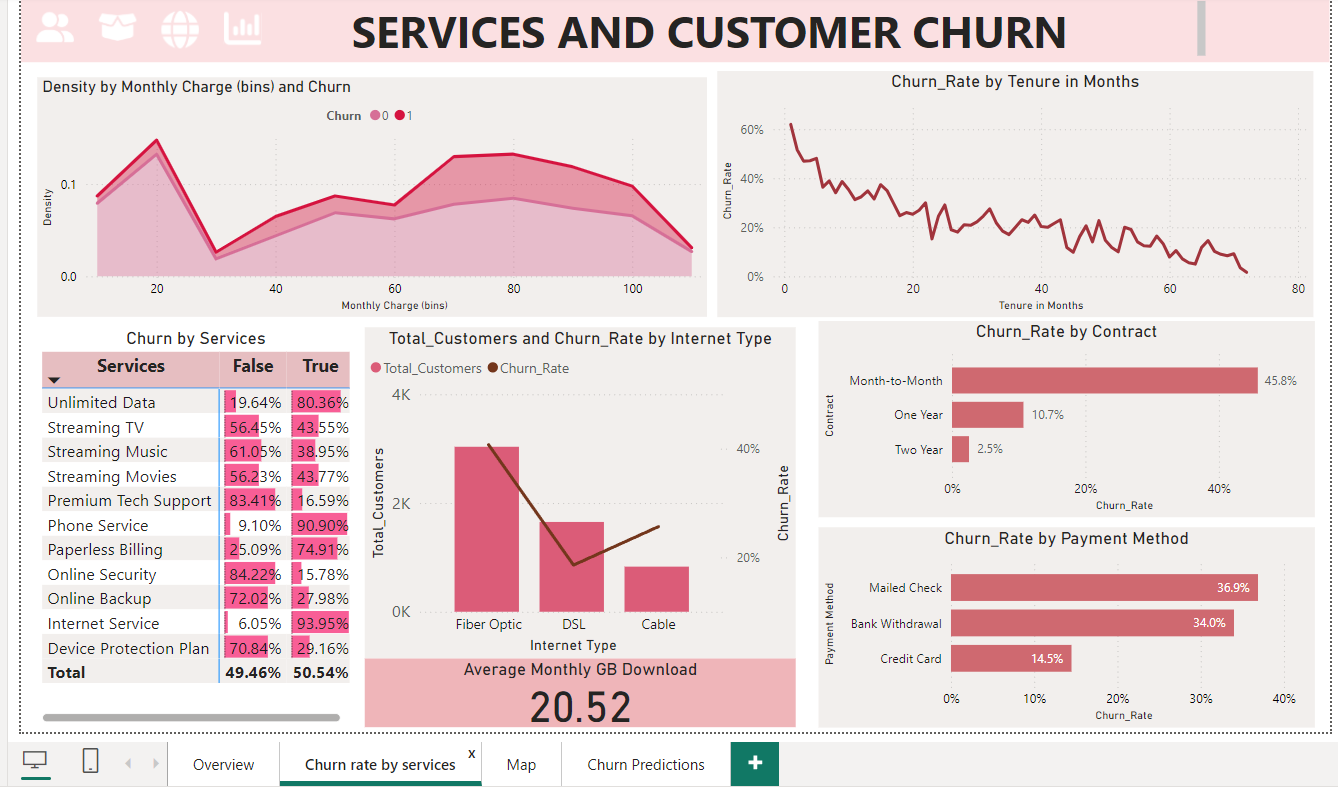

What the dashboard file says about the page in this screenshot:
{"tool":"powerbi","page":{"name":"Churn rate by services","canvas":[1280,720],"ordinal":1},"visuals":[{"type":"shape","title":"SERVICES AND CUSTOMER CHURN","box":[0,0,1280.3,64.8],"z":0},{"type":"actionButton","box":[11.5,4.3,44.7,50.5],"z":0,"group":"g1"},{"type":"actionButton","box":[72.6,4.3,44.7,50.5],"z":1000,"group":"g1"},{"type":"lineChart","fields":{"Category":["telecom_analysis.Tenure in Months"],"Y":["telecom_analysis.Churn_Rate"]},"box":[681.1,73.4,583.3,240.9],"z":1000},{"type":"actionButton","box":[194.7,5.7,44.7,50.5],"z":2000,"group":"g1"},{"type":"clusteredBarChart","fields":{"Y":["telecom_analysis.Churn_Rate"],"Category":["telecom_analysis.Contract"]},"box":[780.2,317.9,485.5,192],"z":2000},{"type":"actionButton","box":[133.7,7.2,44.7,50.5],"z":3000,"group":"g1"},{"type":"clusteredBarChart","fields":{"Category":["telecom_analysis.Payment Method"],"Y":["telecom_analysis.Churn_Rate"]},"box":[780.2,519.7,485.5,195.7],"z":3000},{"type":"lineStackedColumnComboChart","fields":{"Category":["telecom_analysis.Internet Type"],"Y":["telecom_analysis.Total_Customers"],"Y2":["telecom_analysis.Churn_Rate"]},"box":[336.3,324.1,421.9,324.1],"z":4000},{"type":"pivotTable","title":"Churn by Services","fields":{"Rows":["telecom_services.Services"],"Columns":["telecom_services.Status"],"Values":["Sum(telecom_services.Churn)"]},"box":[15.9,324.1,310.6,391.3],"z":5000},{"type":"card","title":"Average Monthly GB Download","fields":{"Values":["Avg(telecom_analysis.Avg Monthly GB Download)"]},"box":[336.3,648.1,421.9,67.3],"z":6000},{"type":"stackedAreaChart","fields":{"Series":["telecom_analysis.Churn"],"Y":["telecom_analysis.Density"],"Category":["telecom_analysis.Monthly Charge (bins)"]},"box":[15.9,79.5,655.4,234.8],"z":7000},{"type":"textbox","box":[190.8,0,973.4,64.8],"z":8000},{"type":"group","id":"g1","title":"Navigation buttons","box":[11.5,4.3,228,53.4],"z":9000}]}

Visuals, with their boxes on the page's 1280x720 design canvas (x1, y1, x2, y2). These are canvas units, not pixel positions in the 1338x787 screenshot, which may show the page scaled, cropped or inside an application window:
"SERVICES AND CUSTOMER CHURN" shape: {"x1": 0, "y1": 0, "x2": 1280, "y2": 65}
actionButton: {"x1": 12, "y1": 4, "x2": 56, "y2": 55}
actionButton: {"x1": 73, "y1": 4, "x2": 117, "y2": 55}
lineChart - telecom_analysis.Tenure in Months x telecom_analysis.Churn_Rate: {"x1": 681, "y1": 73, "x2": 1264, "y2": 314}
actionButton: {"x1": 195, "y1": 6, "x2": 239, "y2": 56}
clusteredBarChart - telecom_analysis.Churn_Rate x telecom_analysis.Contract: {"x1": 780, "y1": 318, "x2": 1266, "y2": 510}
actionButton: {"x1": 134, "y1": 7, "x2": 178, "y2": 58}
clusteredBarChart - telecom_analysis.Payment Method x telecom_analysis.Churn_Rate: {"x1": 780, "y1": 520, "x2": 1266, "y2": 715}
lineStackedColumnComboChart - telecom_analysis.Internet Type x telecom_analysis.Total_Customers: {"x1": 336, "y1": 324, "x2": 758, "y2": 648}
"Churn by Services" pivotTable: {"x1": 16, "y1": 324, "x2": 326, "y2": 715}
"Average Monthly GB Download" card: {"x1": 336, "y1": 648, "x2": 758, "y2": 715}
stackedAreaChart - telecom_analysis.Churn x telecom_analysis.Density: {"x1": 16, "y1": 80, "x2": 671, "y2": 314}
textbox: {"x1": 191, "y1": 0, "x2": 1164, "y2": 65}
"Navigation buttons" group: {"x1": 12, "y1": 4, "x2": 240, "y2": 58}
